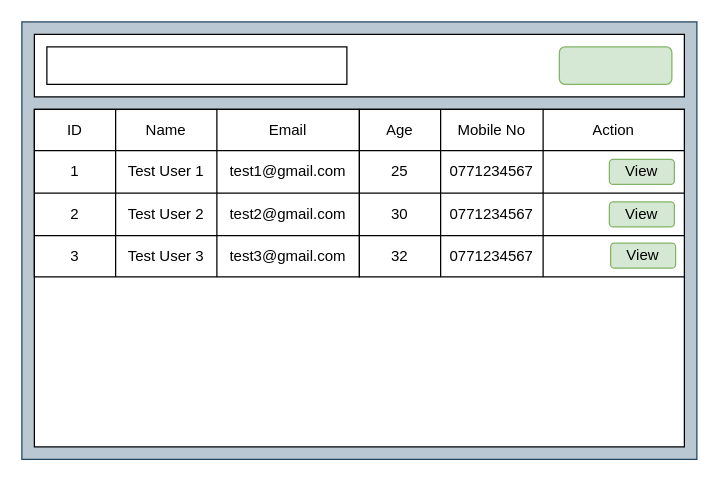
This 719x481 diagram has some shape labels left out. The centre of each missing label's shape, as x and y in pixels:
"Add User" belongs at (615,65).
"Search User" belongs at (196,65).
